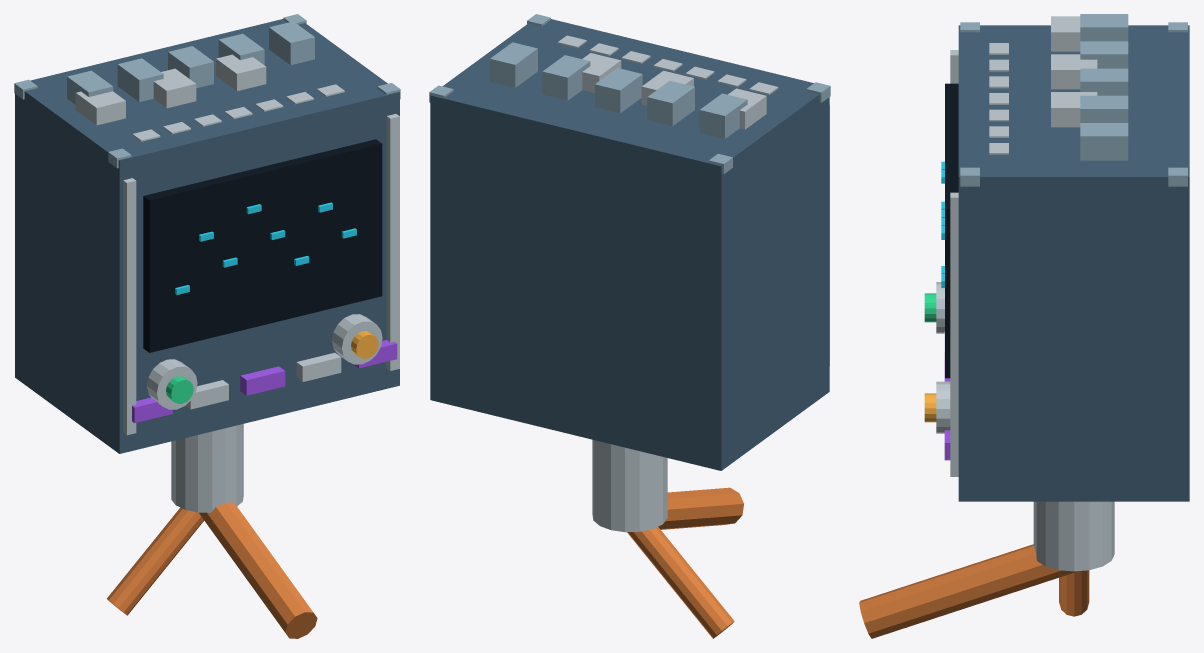
File: 21_L73_SlurryConcentrationSensor.fbx
The picture shows the model from 3 angles, left to right: view 1: azimuth 30°, elevation 25°; view 2: azimuth 150°, elevation 25°; view 3: azimuth 270°, elevation 25°; orthographic projection. The views are drawn at different scales.
Visible parts, largest first — view 1: SlurryConcentrationSensor; view 2: SlurryConcentrationSensor; view 3: SlurryConcentrationSensor.
Part boxes in pixels (bbox=[...]): SlurryConcentrationSensor: bbox=[14, 14, 400, 638]; SlurryConcentrationSensor: bbox=[429, 14, 830, 638]; SlurryConcentrationSensor: bbox=[859, 14, 1189, 638].
Size of the model in its own units: 62.72 by 112 by 57.19.
